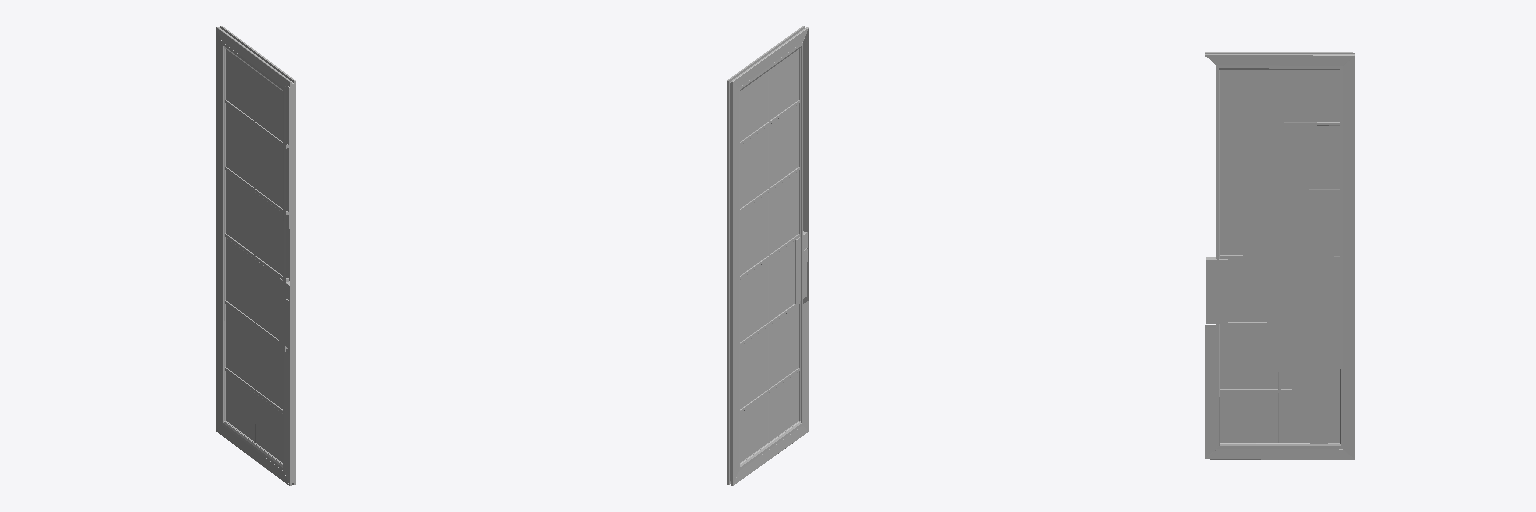
File: VentanaT2_5.obj
The picture shows the model from 3 angles: view 1: azimuth 30°, elevation 25°; view 2: azimuth 150°, elevation 25°; view 3: azimuth 270°, elevation 25°; orthographic projection.
Parts seen in each view (by area): view 1: Box2655; view 2: Box2655; view 3: Box2655.
Boxes of the visible parts, <box> form: Box2655: <box>216,26,295,485</box>; Box2655: <box>727,26,808,485</box>; Box2655: <box>1205,52,1354,459</box>.
Bounding box in the file's own units: 0.0168 × 0.8935 × 0.3008.